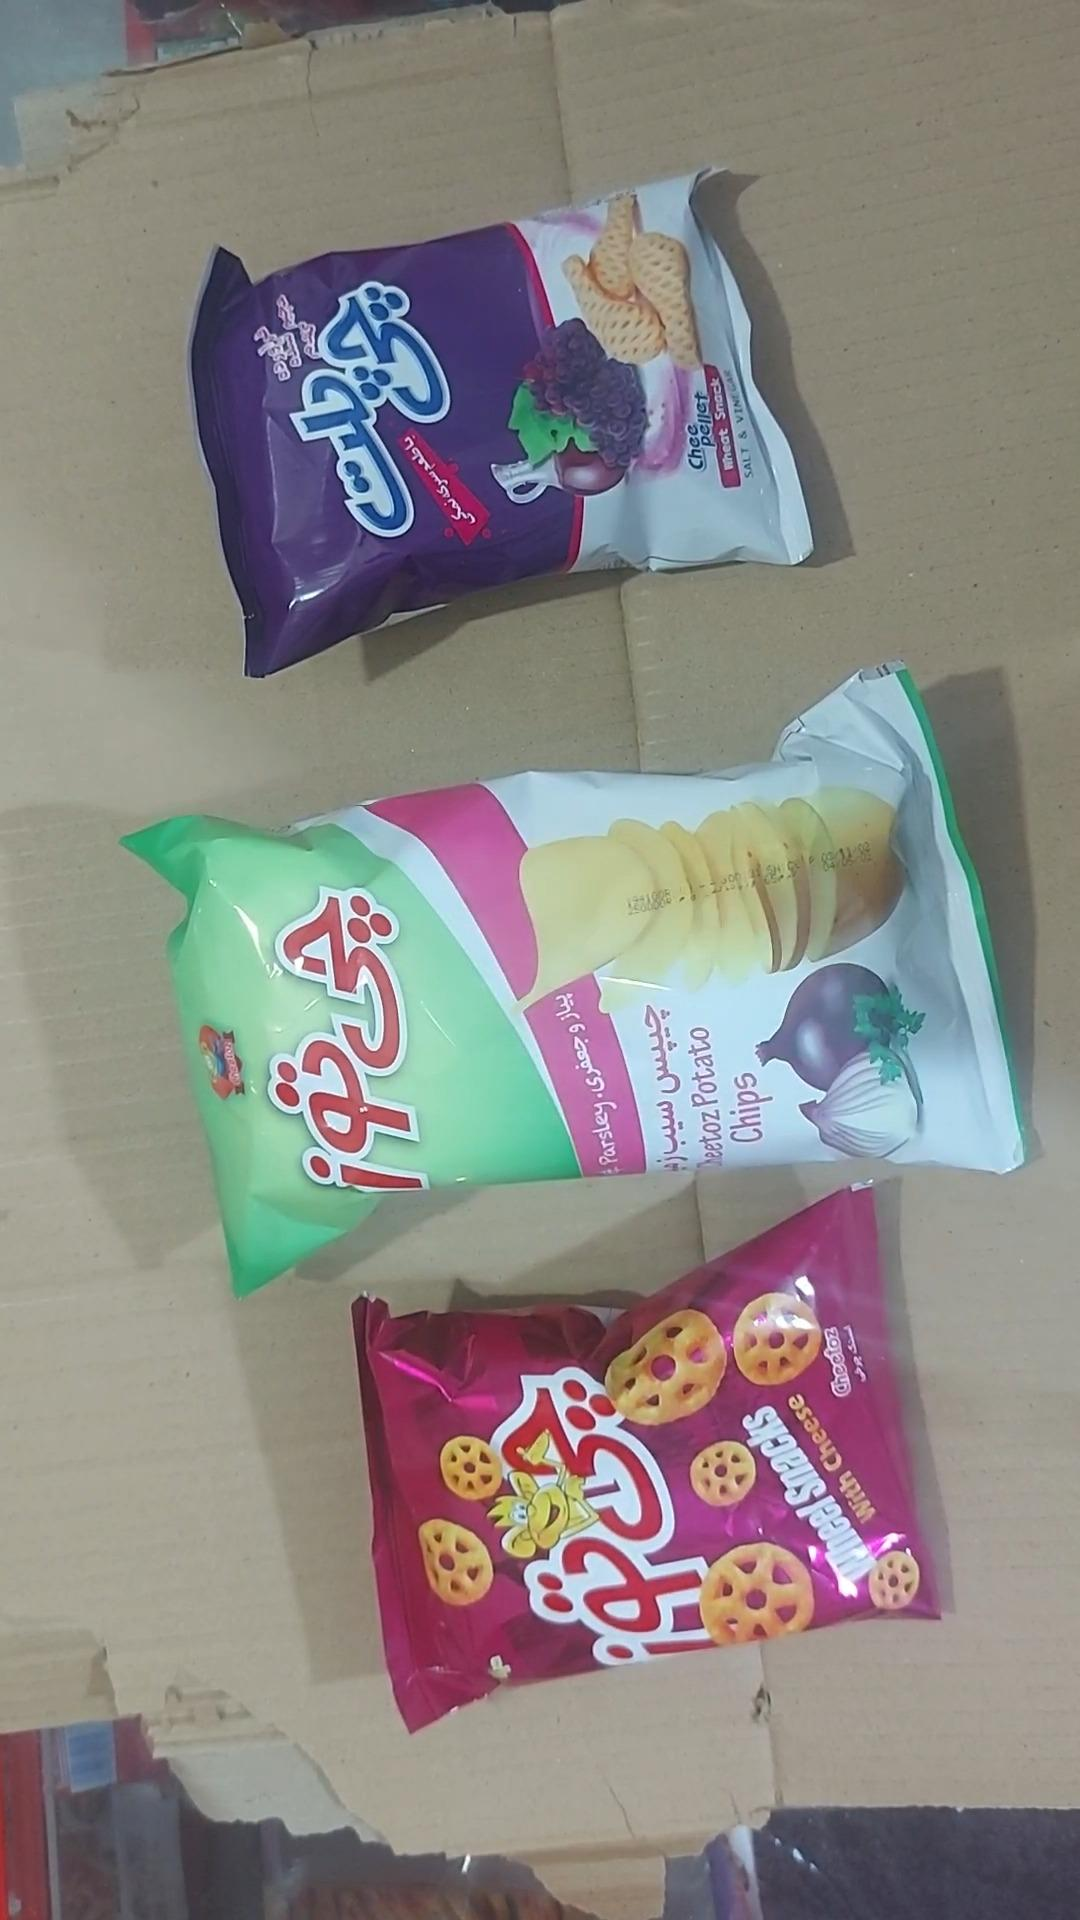Chee pellet vinegar: (189, 164, 816, 680)
Cheetoz onion and parsley chips: (121, 666, 1027, 1298)
Cheetoz wheelsnack: (349, 1182, 942, 1737)
